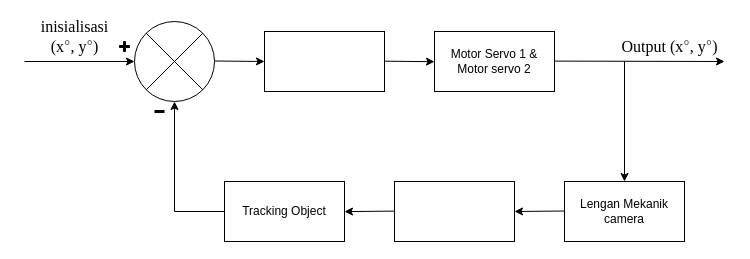
This 750x259 diagram has some shape labels left out. Here are the shapes that lost their labels. From the top down, the centre of each, then its label:
the point at 324,61: Kontrol Motor
the point at 454,211: Webcam
